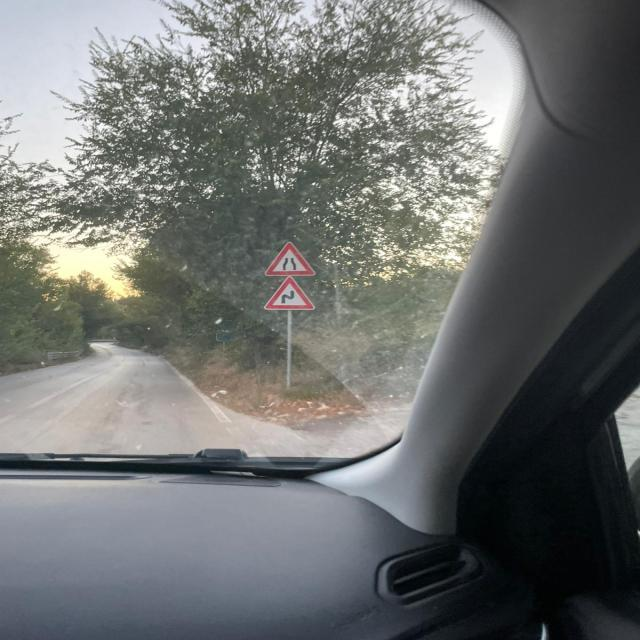warn_double_curve: (263, 276, 316, 312)
